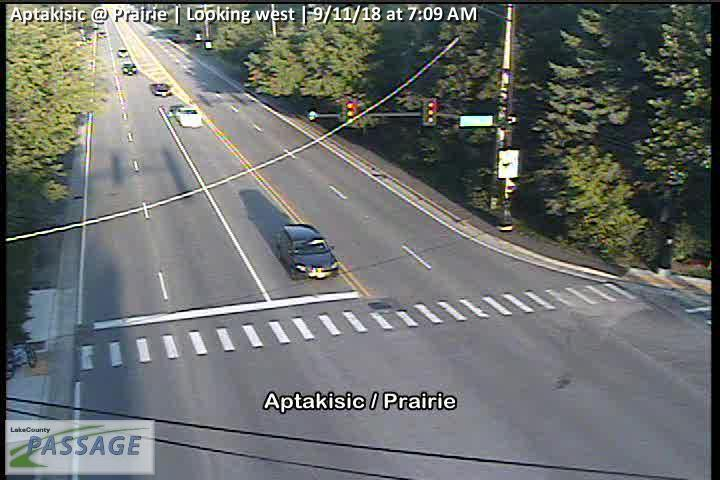SUV: (278, 225, 338, 282)
Sedan: (174, 107, 201, 127), (151, 82, 171, 96), (121, 63, 137, 76), (118, 49, 130, 58)
